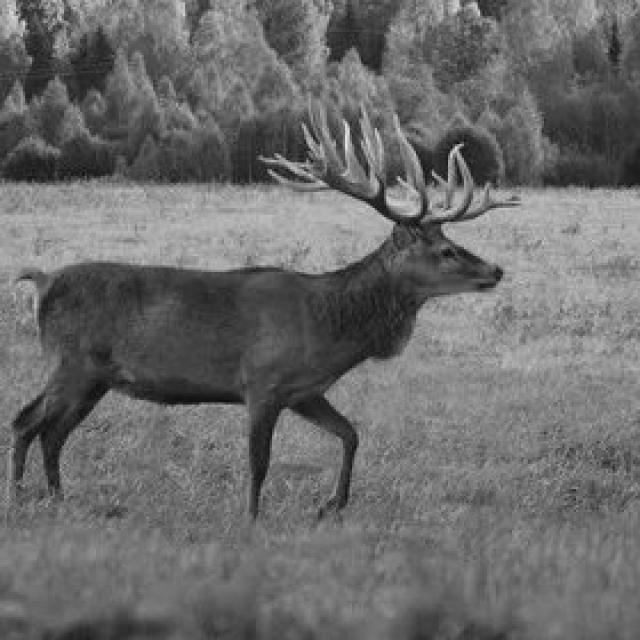Deer: (0, 114, 540, 545)
